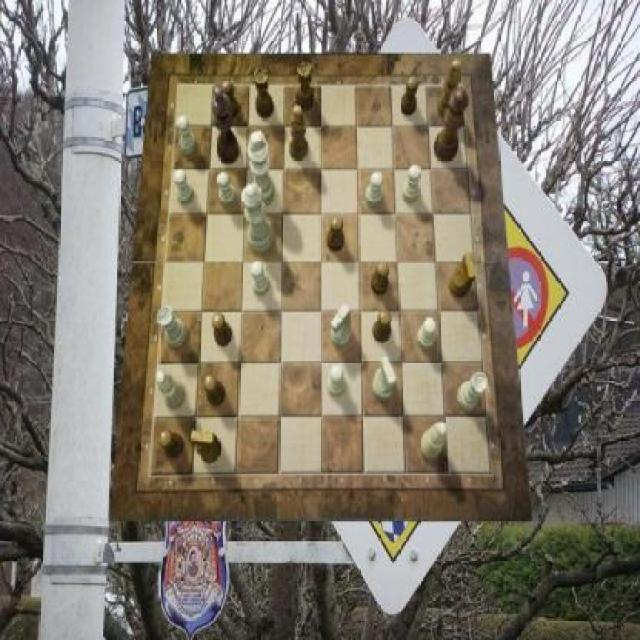bishop: (437, 60, 461, 118), (290, 104, 308, 160)
black-bishop: (212, 84, 240, 164)
black-king: (449, 252, 477, 298), (191, 430, 221, 464)
black-knight: (158, 429, 184, 458), (205, 374, 227, 406), (212, 312, 232, 347), (372, 309, 392, 343), (222, 80, 239, 120), (402, 77, 419, 117), (371, 262, 388, 296), (328, 217, 345, 251)
black-pawn: (434, 89, 469, 163)
black-queen: (254, 70, 274, 119), (296, 63, 314, 112)
black-rook: (156, 371, 186, 411), (422, 422, 448, 459)
white-bishop: (248, 129, 275, 207)
white-king: (372, 357, 396, 399), (331, 305, 351, 347)
white-knight: (177, 116, 196, 156), (251, 262, 271, 298), (174, 170, 194, 206), (403, 166, 421, 205), (217, 172, 237, 207), (417, 318, 436, 351), (365, 172, 382, 207), (328, 364, 345, 398)
white-pawn: (241, 183, 274, 252)
white-queen: (458, 372, 488, 412), (157, 308, 187, 348)
